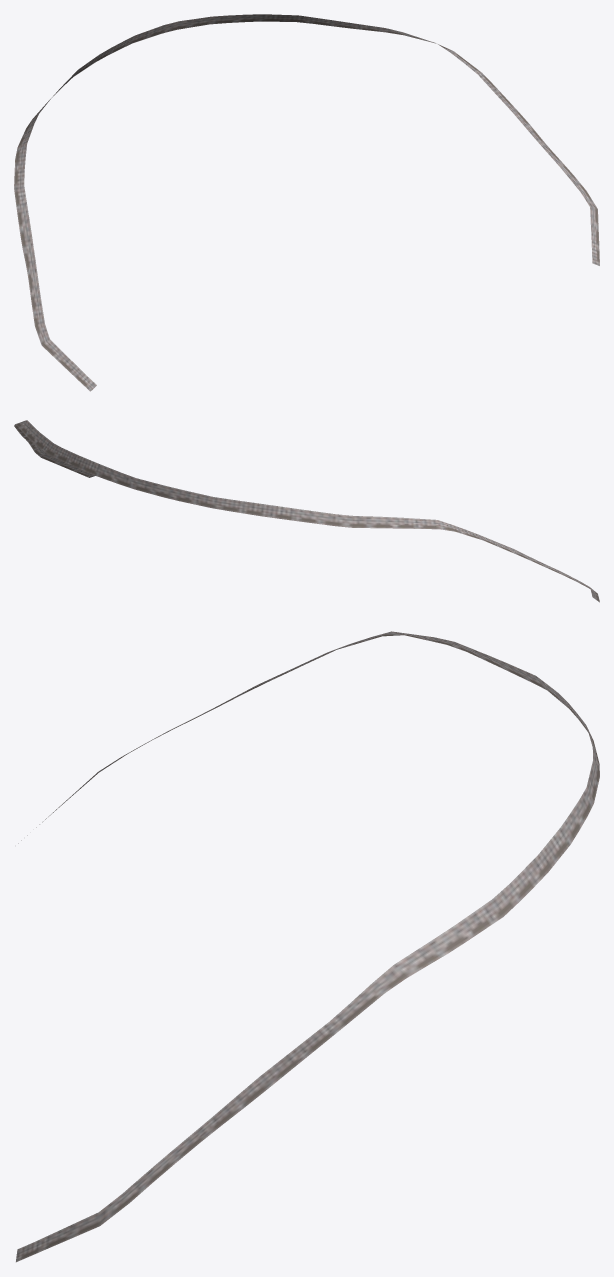
File: notch_collar_AMF 2mm.glb
3 views of the same model, one above another, from view 1: azimuth 30°, elevation 25°; view 2: azimuth 150°, elevation 25°; view 3: azimuth 270°, elevation 25° (orthographic). The views are drawn at different scales.
Parts seen in each view (by area): view 1: notch_collar_AMF1; view 2: notch_collar_AMF1; view 3: notch_collar_AMF1.
Boxes of the visible parts, box(x1,y1,x2,y2) form: notch_collar_AMF1: box(14, 14, 599, 391); notch_collar_AMF1: box(14, 420, 599, 602); notch_collar_AMF1: box(16, 631, 599, 1262).
Bounding box in the file's own units: 0.0368 × 0.0114 × 0.0201.
Materials: 1 (1 with a texture image).
